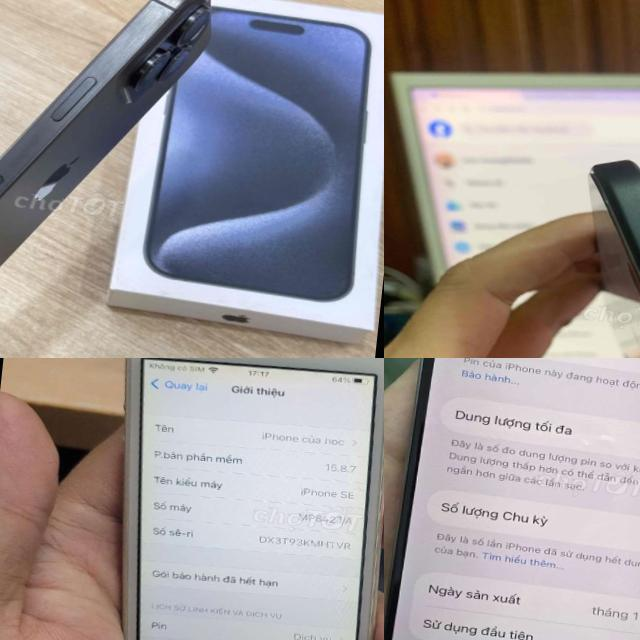gen_15: (0, 0, 236, 358), (384, 358, 640, 640)
gen_16: (588, 160, 640, 358)
gen_6: (120, 358, 384, 640)
